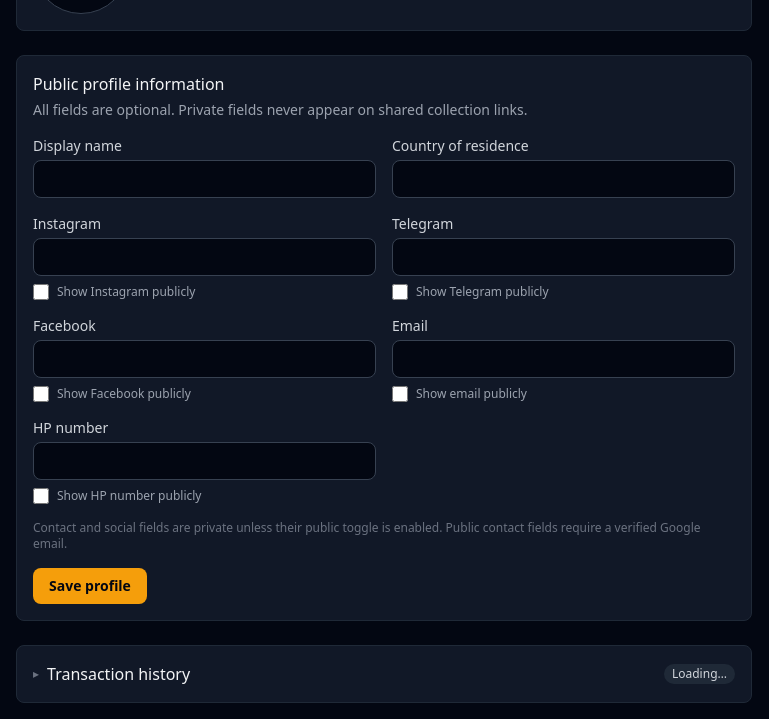
Test case: SettingsPage transaction history › section disclosure (REQ-ACC-1) › shows the loading chip while collapsed (AC-ACC-1.4/1.6)
(page scrolled)
Expected: the text "Loading…" is shown, [664,664,735,684]
Click the button "▸ Transaction history Loading…".
click(119, 674)  # box [33,662,735,686]
(page scrolled)
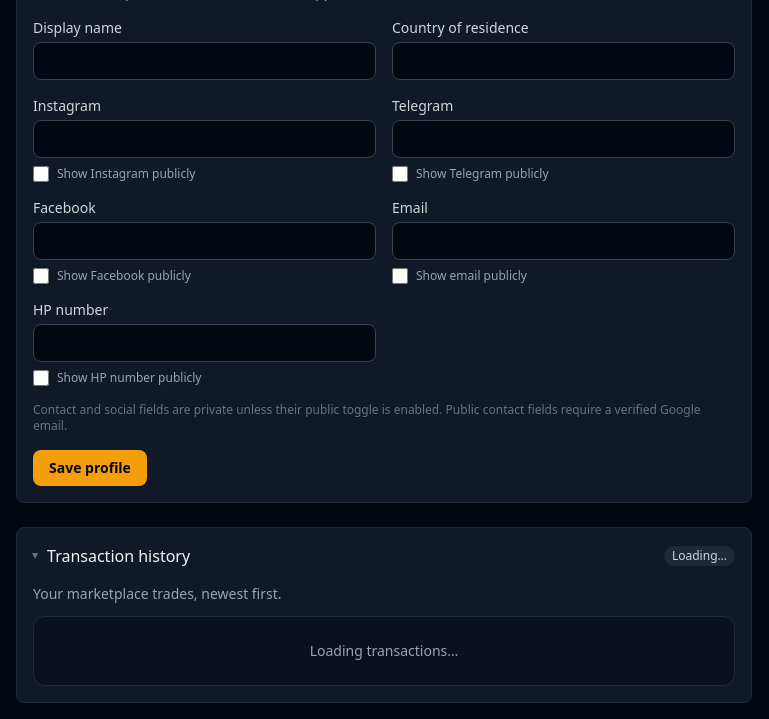
Now the text "Loading transactions…" is shown, box [33,616,735,686]
